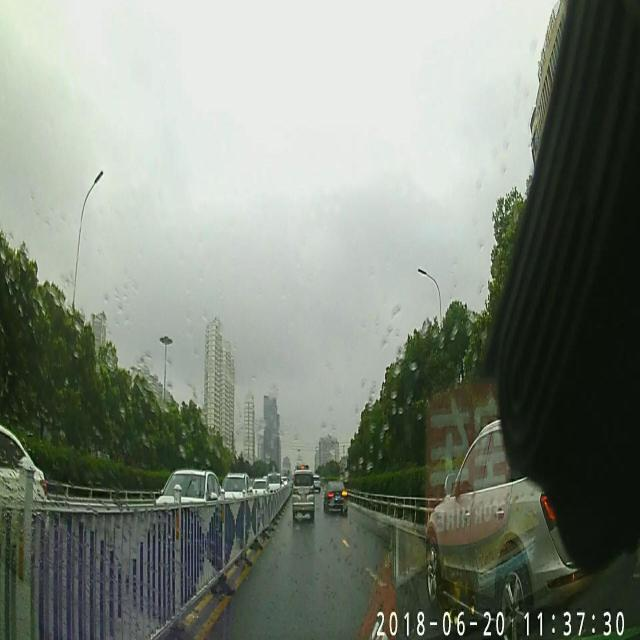car: (422, 416, 632, 616), (152, 468, 226, 552), (216, 472, 256, 518), (288, 468, 314, 516), (323, 478, 348, 514), (266, 470, 282, 495)
